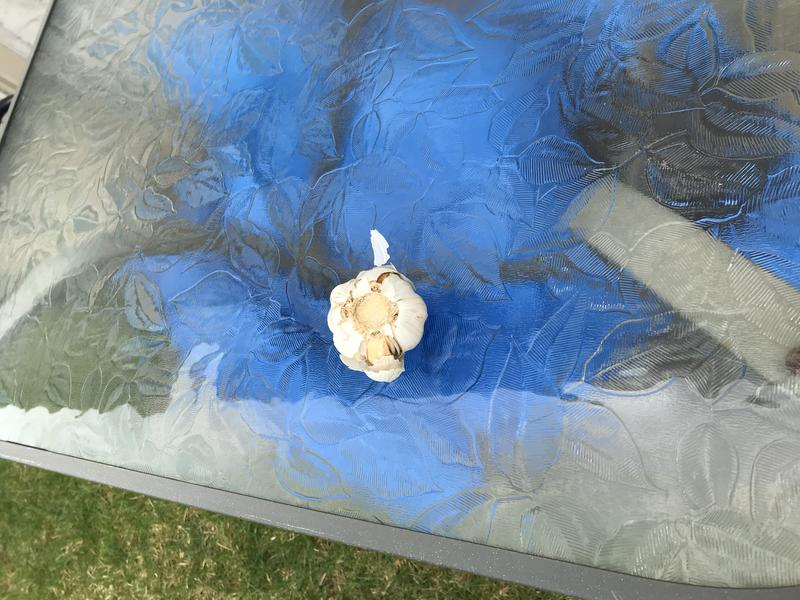garlic: (323, 265, 436, 387)
